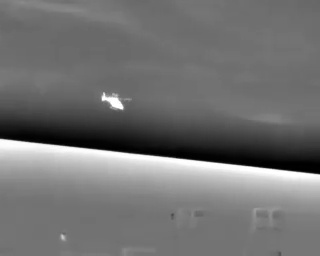HELICOPTER: (97, 87, 136, 119)
